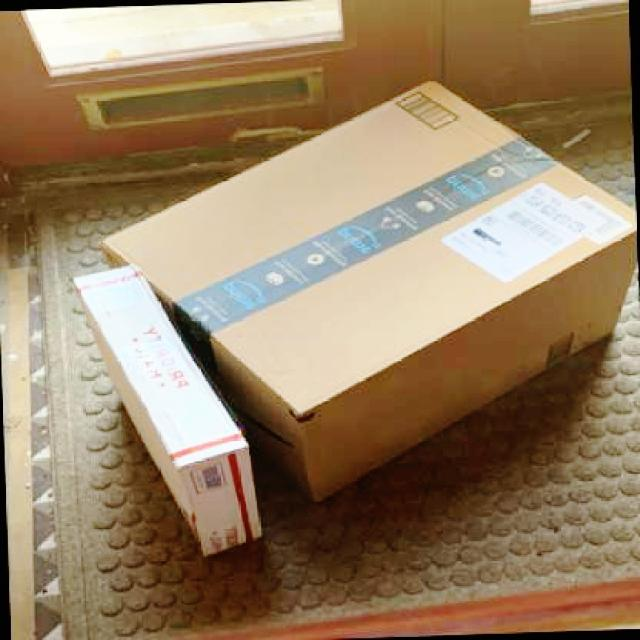Box: (94, 74, 638, 514), (70, 261, 262, 561)
